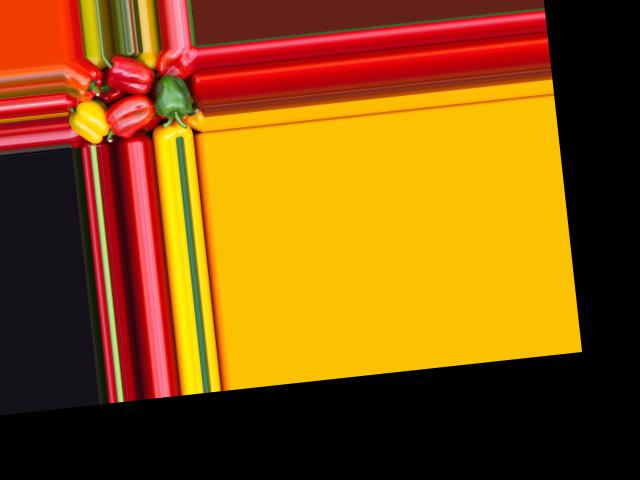bell_pepper: (66, 95, 113, 148)
